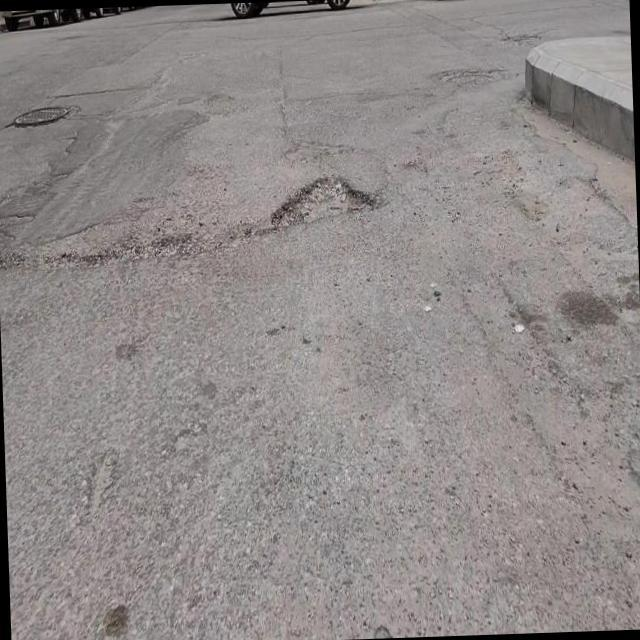Pothole: (268, 171, 374, 232)
